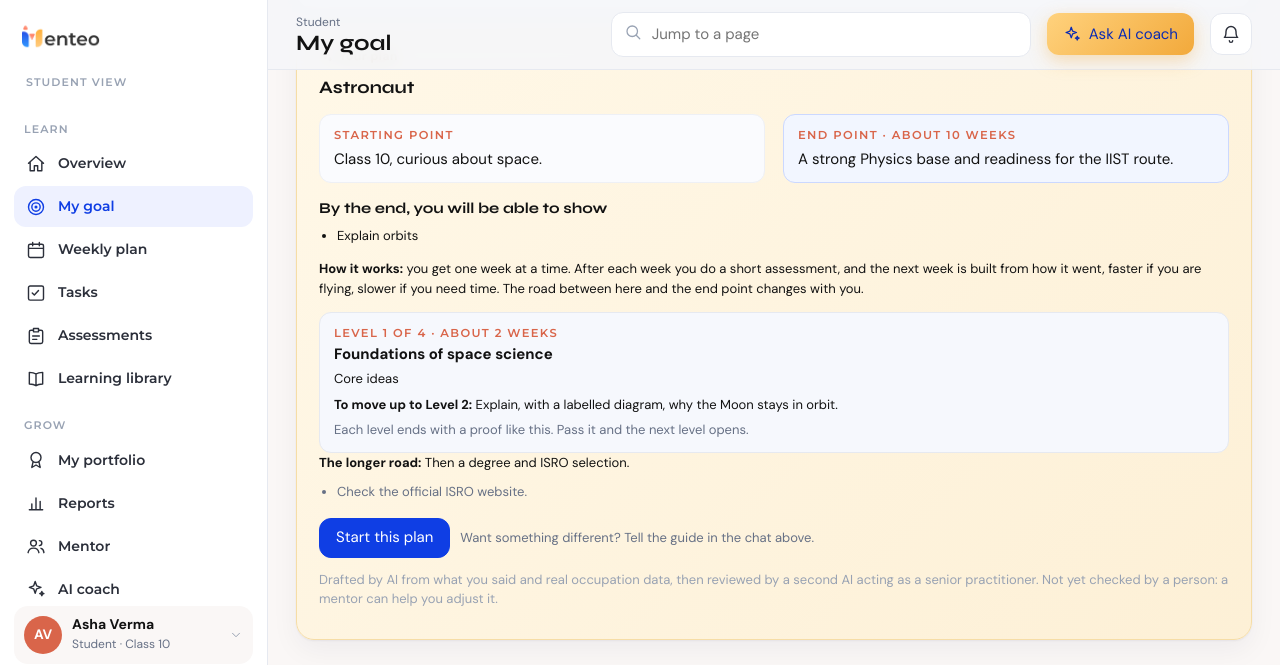
the career chat › shows the drafted plan (start point, end point, phases) and starts it
(page scrolled)
Expected: the text "Class 10, curious about space." is shown, [334,149,542,169]
Expected: the text "End point · about 10 weeks" is shown, [798,128,1016,142]
Click the button "Start this plan": (385, 538) [319,518,450,558]
(page scrolled)
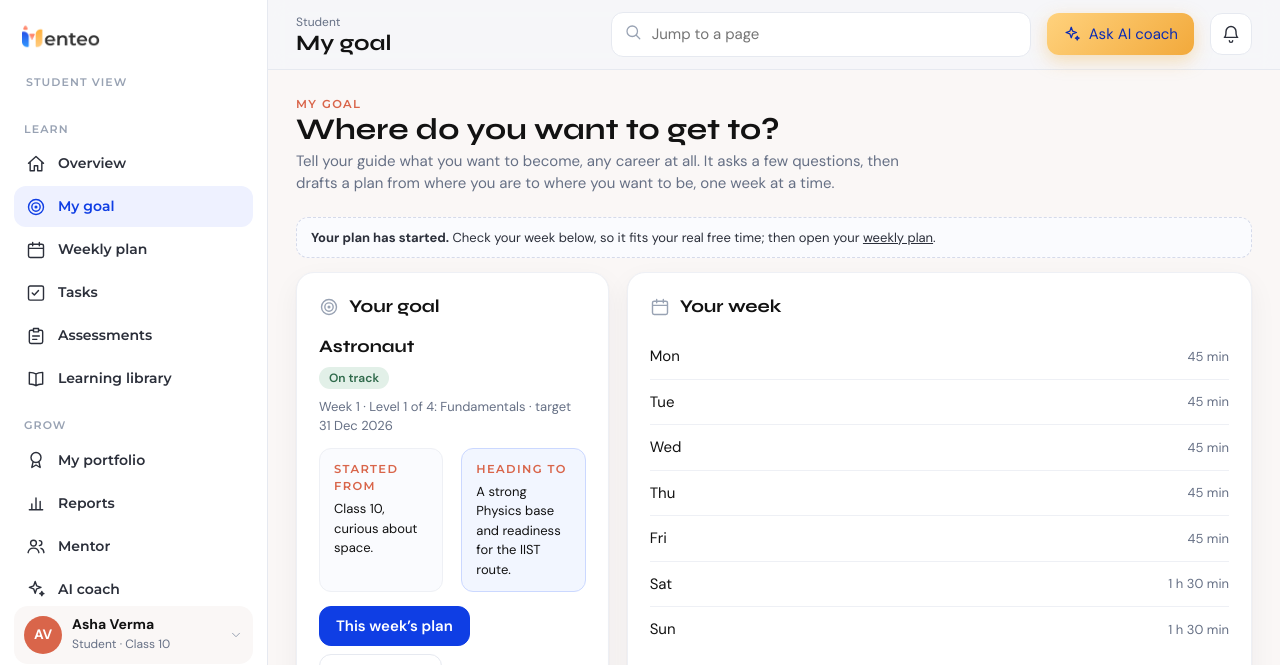
Expected: the heading "Astronaut" is shown, [319,336,414,357]
Now the text "Your plan has started." is shown, box [311,229,449,246]
